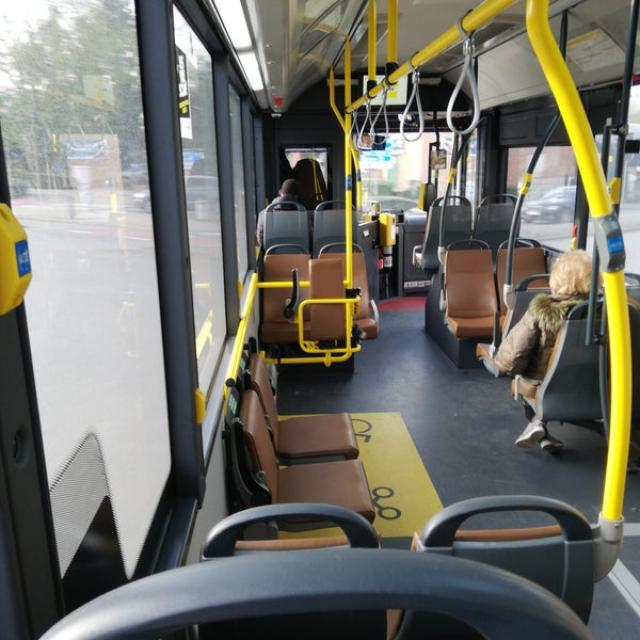empty-seat-frontal: (441, 242, 507, 335)
